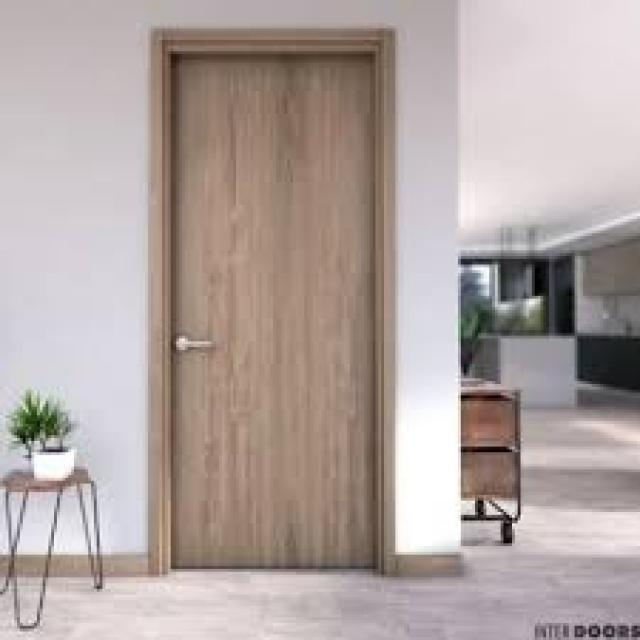door: (165, 37, 384, 572)
